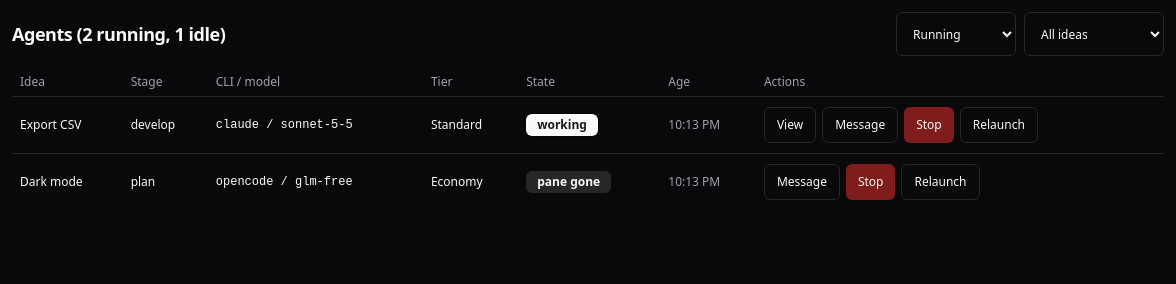
it: AgentsView list › switches to All and back
The width and height of the screenshot is (1176, 284).
Select "All" in the dropdown named "Agent state" at (956, 34), box [896, 12, 1016, 56]
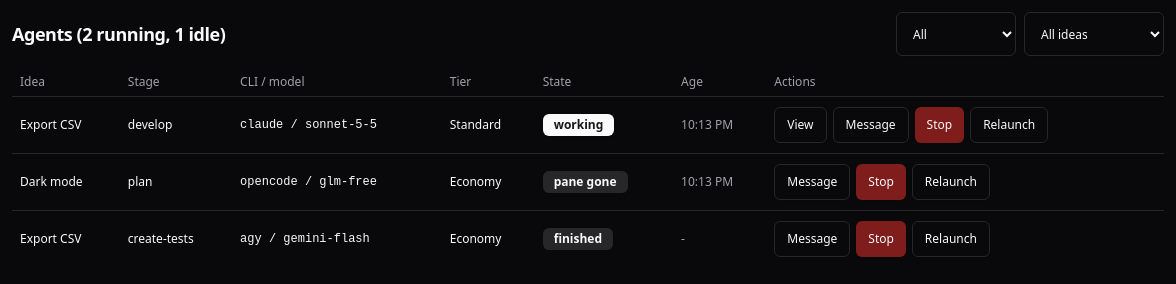
Result: the text "create-tests" is shown at [120, 210, 232, 267]
Select "Running" in the dropdown named "Agent state" at (956, 34), box [896, 12, 1016, 56]
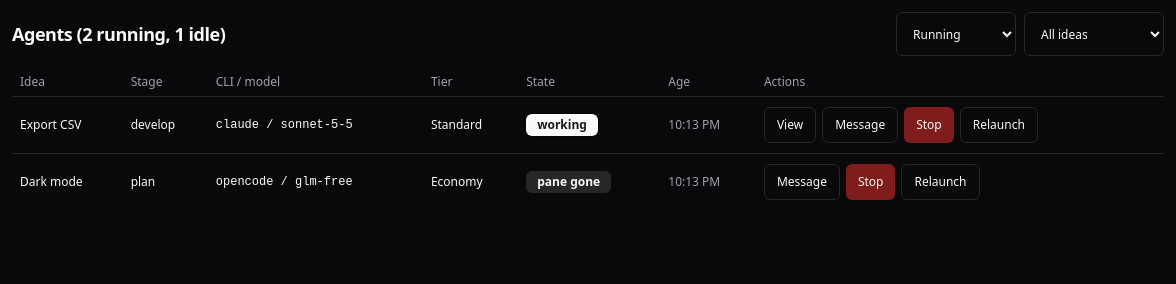
Result: the text "create-tests" is gone
